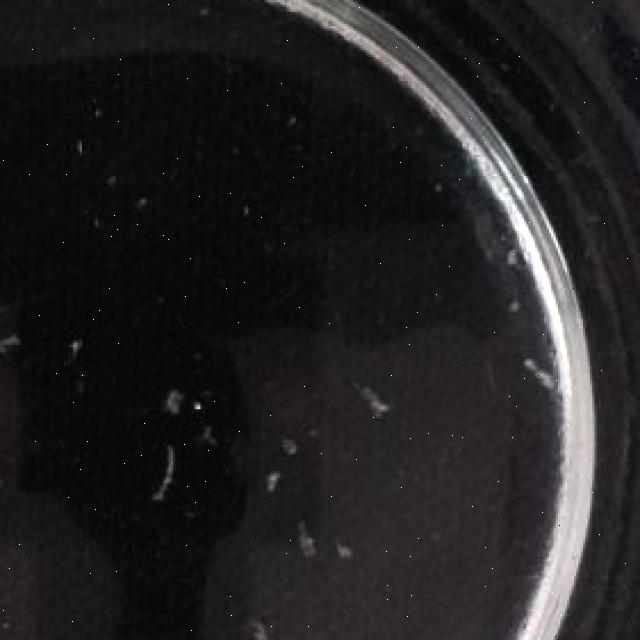Microplastic: (517, 338, 590, 407), (335, 359, 405, 428), (146, 430, 184, 530), (241, 597, 287, 640), (287, 521, 323, 564), (251, 467, 287, 498), (282, 428, 310, 466), (0, 323, 27, 361), (334, 531, 358, 566), (157, 388, 189, 414), (66, 333, 84, 357)
